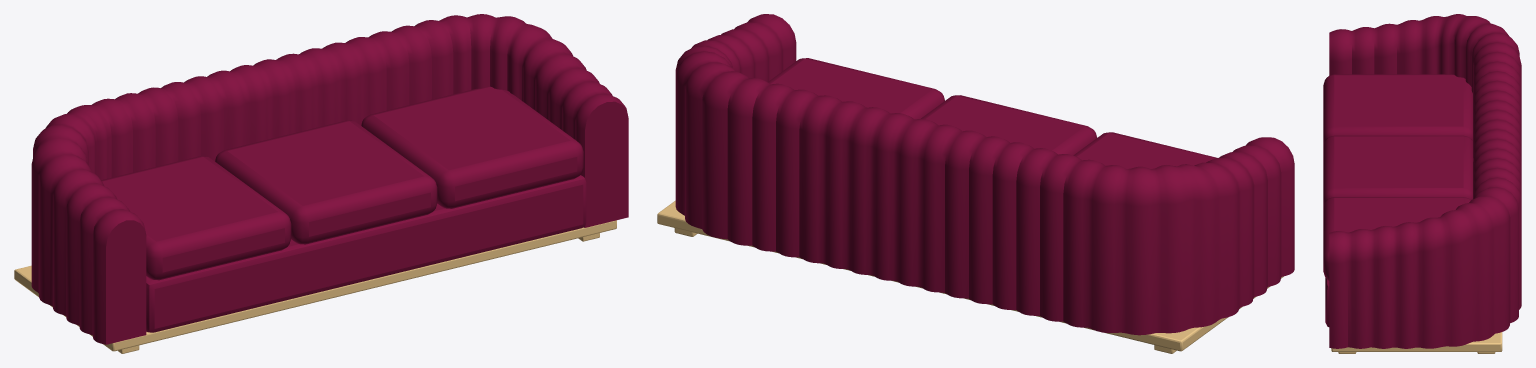
The model's file is JAC_05_Sofa.glb.
3 renders of one model, left to right at view 1: azimuth 30°, elevation 25°; view 2: azimuth 150°, elevation 25°; view 3: azimuth 270°, elevation 25°, orthographic. The views are drawn at different scales.
Parts seen in each view (by area): view 1: JAC_05_Sofa; view 2: JAC_05_Sofa; view 3: JAC_05_Sofa.
Boxes of the visible parts, box(x1,y1,x2,y2) form: JAC_05_Sofa: box(14, 14, 628, 353); JAC_05_Sofa: box(657, 14, 1294, 353); JAC_05_Sofa: box(1323, 14, 1521, 353).
Size of the model in its own units: 2.64 by 0.7932 by 0.997.
